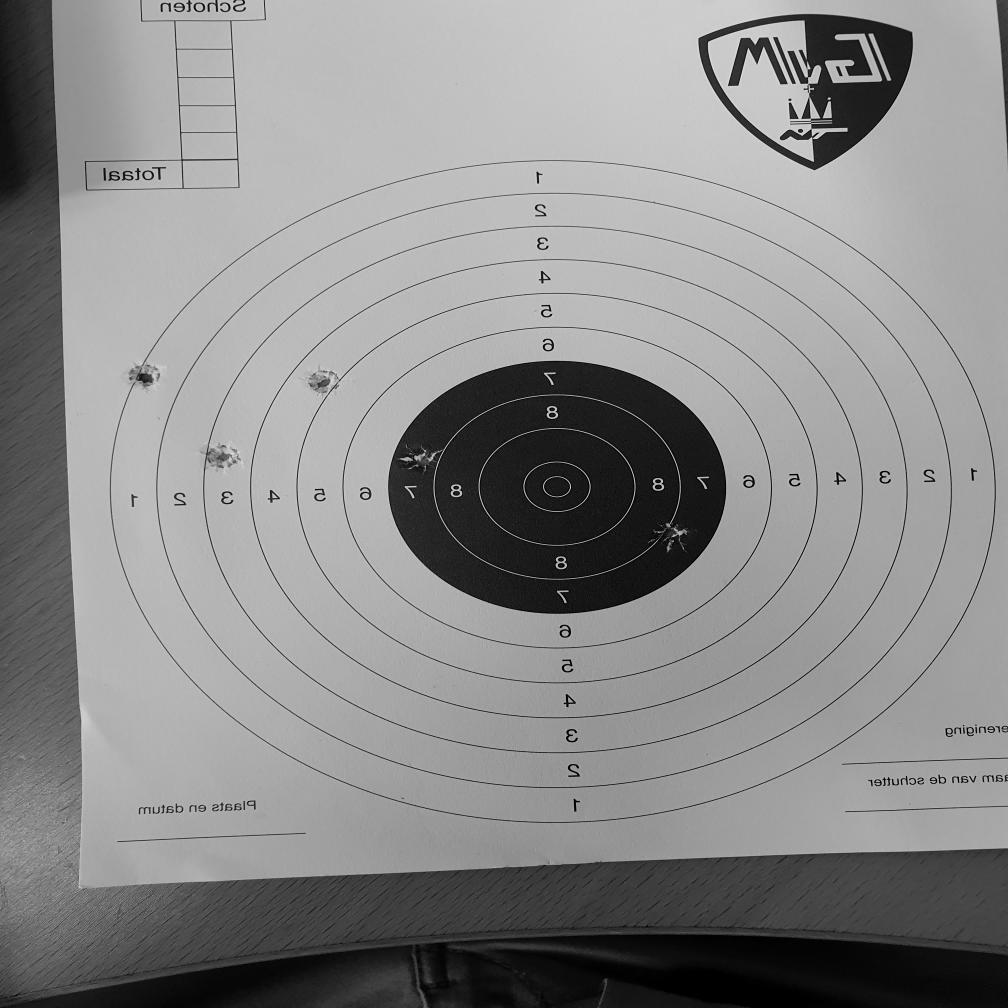1: (120, 354, 164, 388)
3: (198, 440, 244, 473)
5: (302, 363, 346, 396)
7: (401, 444, 447, 474)
8: (647, 516, 696, 554)
Target: (108, 154, 999, 826)
black_contour: (387, 360, 726, 614)
